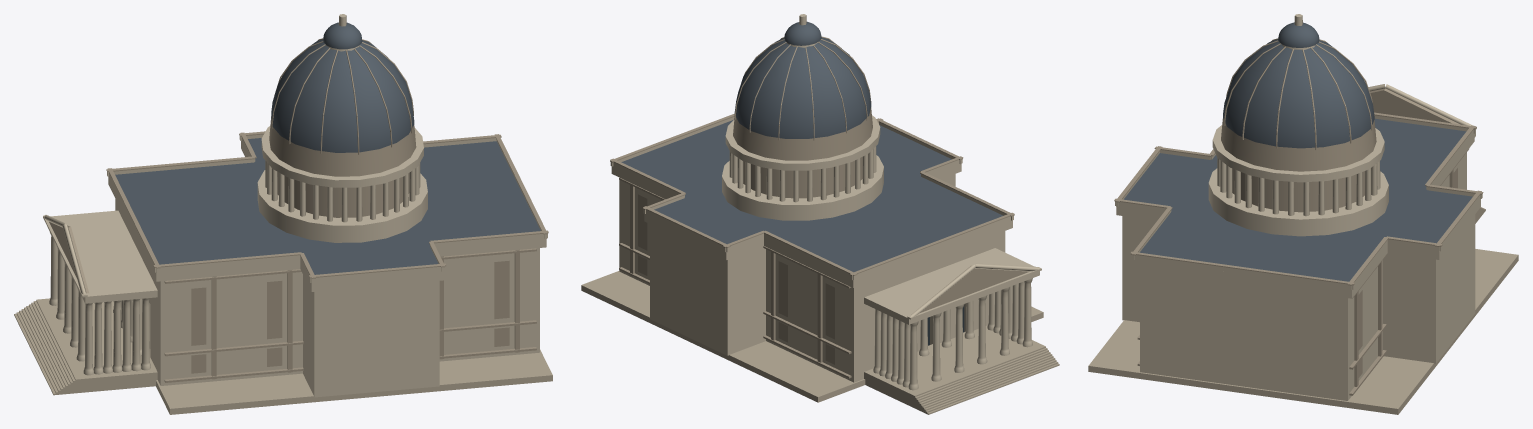
File: paris-pantheon-far.glb
The picture shows the model from 3 angles, left to right: view 1: azimuth 30°, elevation 25°; view 2: azimuth 150°, elevation 25°; view 3: azimuth 270°, elevation 25°; orthographic projection. The views are drawn at different scales.
Parts seen in each view (by area): view 1: paris-pantheon-0-stone, paris-pantheon-0-roof, paris-pantheon-0-shade, paris-pantheon-0-steps; view 2: paris-pantheon-0-stone, paris-pantheon-0-roof, paris-pantheon-0-shade, paris-pantheon-0-steps; view 3: paris-pantheon-0-stone, paris-pantheon-0-roof, paris-pantheon-0-shade, paris-pantheon-0-steps.
Part boxes in pixels (<box>): paris-pantheon-0-stone: <box>43,14,547,397</box>; paris-pantheon-0-roof: <box>115,22,540,274</box>; paris-pantheon-0-shade: <box>49,38,548,382</box>; paris-pantheon-0-steps: <box>14,298,552,414</box>; paris-pantheon-0-stone: <box>610,14,1041,390</box>; paris-pantheon-0-roof: <box>621,21,1003,272</box>; paris-pantheon-0-shade: <box>610,36,1029,378</box>; paris-pantheon-0-steps: <box>581,271,1059,414</box>; paris-pantheon-0-stone: <box>1115,14,1482,400</box>; paris-pantheon-0-roof: <box>1124,22,1472,281</box>; paris-pantheon-0-shade: <box>1114,38,1483,395</box>; paris-pantheon-0-steps: <box>1088,207,1518,414</box>.
Bounding box in the file's own units: 132 × 82 × 104.
